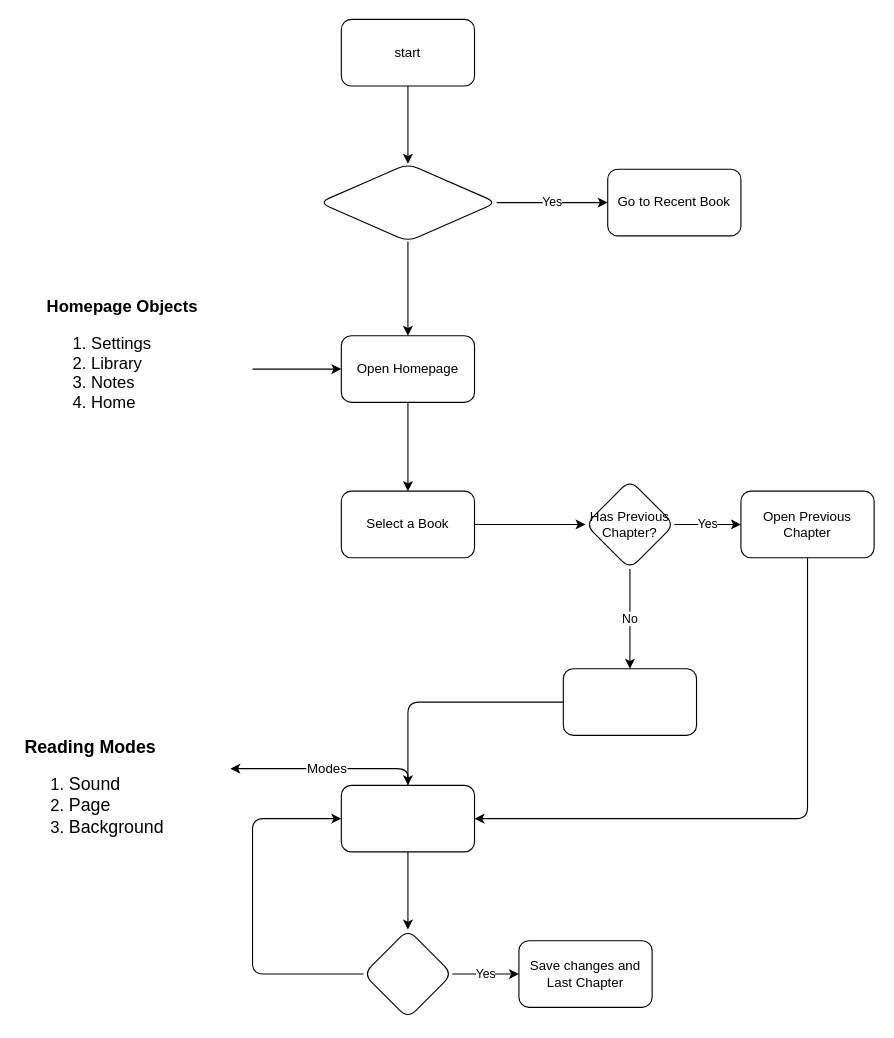
Some shapes in this 894 by 1038 pixel diagram are drawn without their labels. The shapes that lost their labels are listed below. From the top down, each one's centre as x and y in pixels, then its label:
At (x=407, y=202): "Check settings, Open Recent book?".
At (x=629, y=701): "Open Fresh Book Page".
At (x=407, y=818): "Read a book".
At (x=407, y=973): "Exit a book?".
